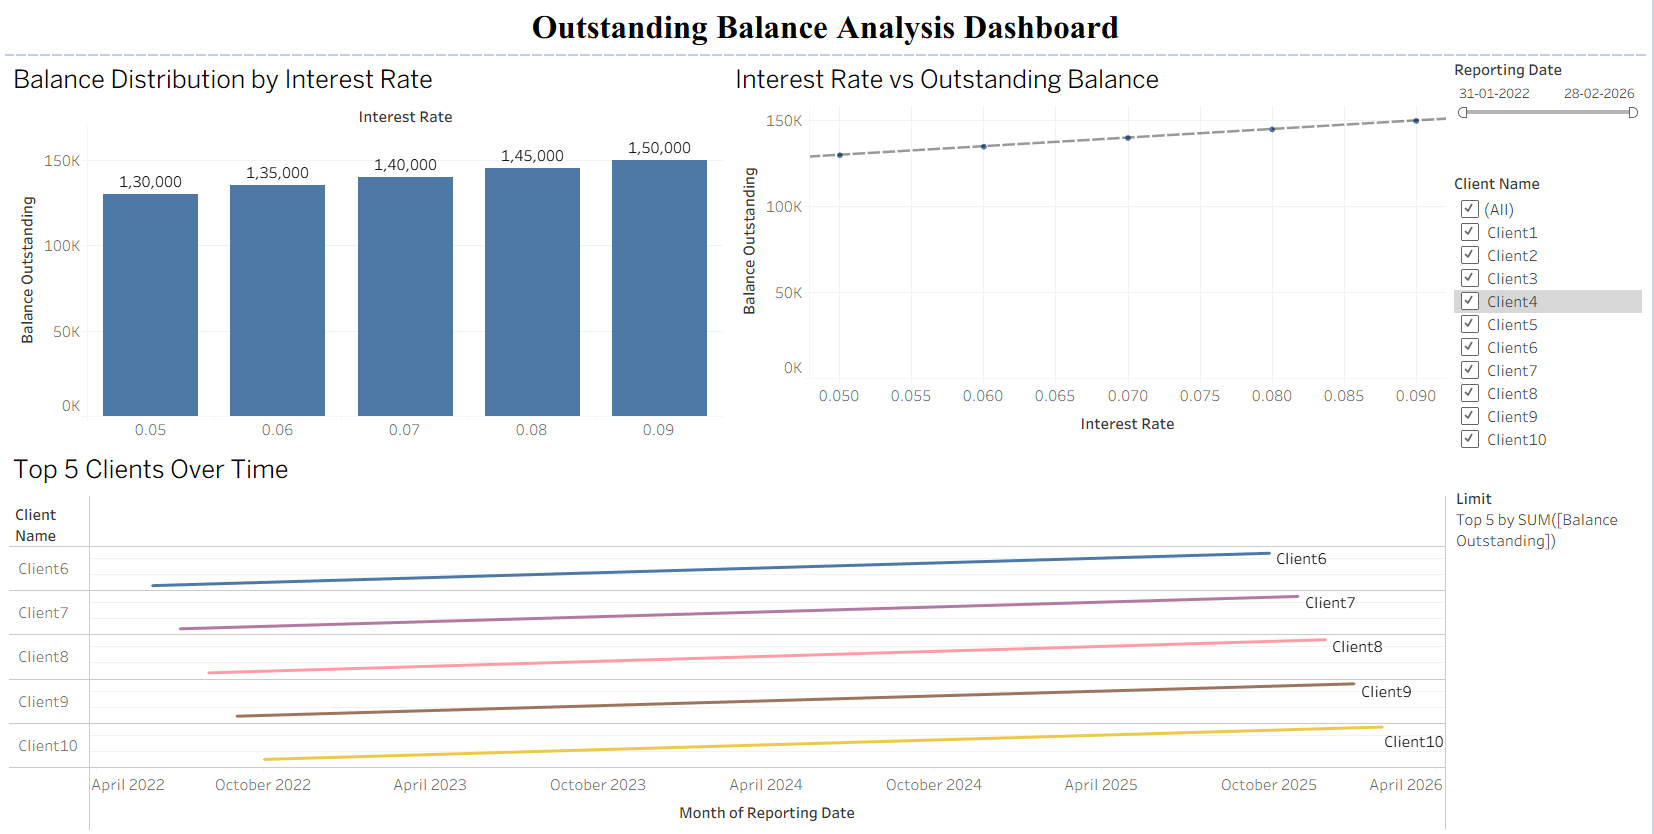

The dashboard page shown, as its layout file describes it:
{"tool":"tableau","page":{"name":"Dashboard 1","canvas":[1000,1000],"units":"permille","ordinal":0},"visuals":[{"type":"text","box":[4.8,9.4,990.3,64.6]},{"type":"worksheet","title":"Sheet 1","mark":"Automatic","rows":["Balance Outstanding"],"cols":["Interest Rate"],"box":[4.8,74,436,457.7]},{"type":"worksheet","title":"Sheet 2","mark":"Automatic","rows":["Balance Outstanding"],"cols":["Interest Rate"],"box":[440.9,74,436,457.7]},{"type":"filter","title":"Sheet 3","param":"[federated.0y9jfo204p70d9140sorn0g4jd99].[none:Reporting Date:qk]","box":[876.9,74,118.3,134]},{"type":"filter","title":"Sheet 3","param":"[federated.0y9jfo204p70d9140sorn0g4jd99].[none:Client Name:nk]","box":[876.9,208,118.3,458.3]},{"type":"worksheet","title":"Sheet 3","mark":"Automatic","rows":["Client Name","Balance Outstanding"],"cols":["Reporting Date"],"box":[4.8,531.8,872.1,458.8]}]}

Visuals, with their boxes on the dashboard's canvas, which has no fixed pixel size, in thousandths of its width and height (x1, y1, x2, y2). These are canvas units, not pixel positions in the 1654x834 screenshot, which may show the page scaled, cropped or inside an application window:
text: box=[5, 9, 995, 74]
"Sheet 1" worksheet: box=[5, 74, 441, 532]
"Sheet 2" worksheet: box=[441, 74, 877, 532]
"Sheet 3" filter: box=[877, 74, 995, 208]
"Sheet 3" filter: box=[877, 208, 995, 666]
"Sheet 3" worksheet: box=[5, 532, 877, 991]
